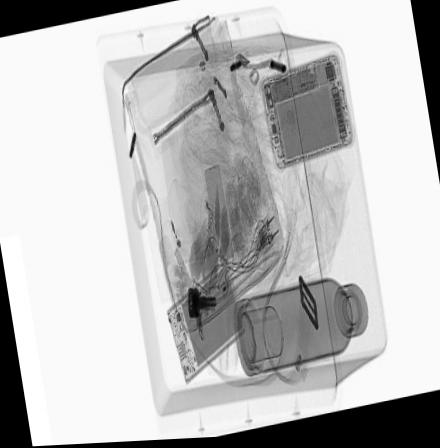Powerbank: (166, 258, 243, 380)
